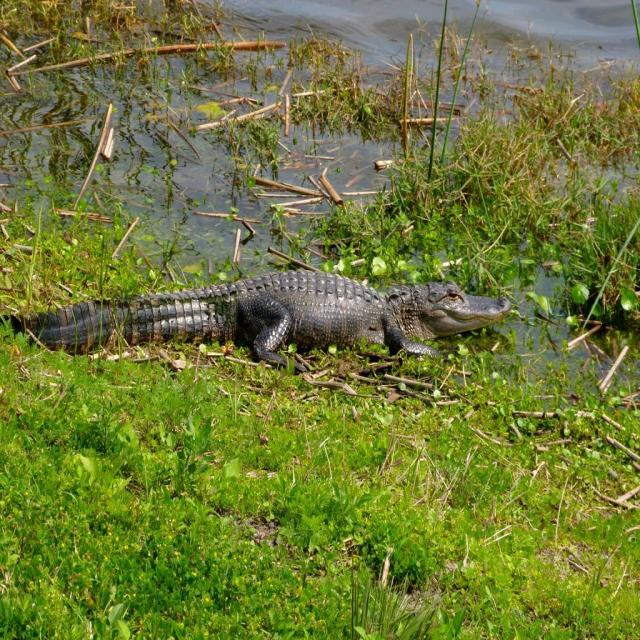crocodile: (5, 254, 543, 385)
